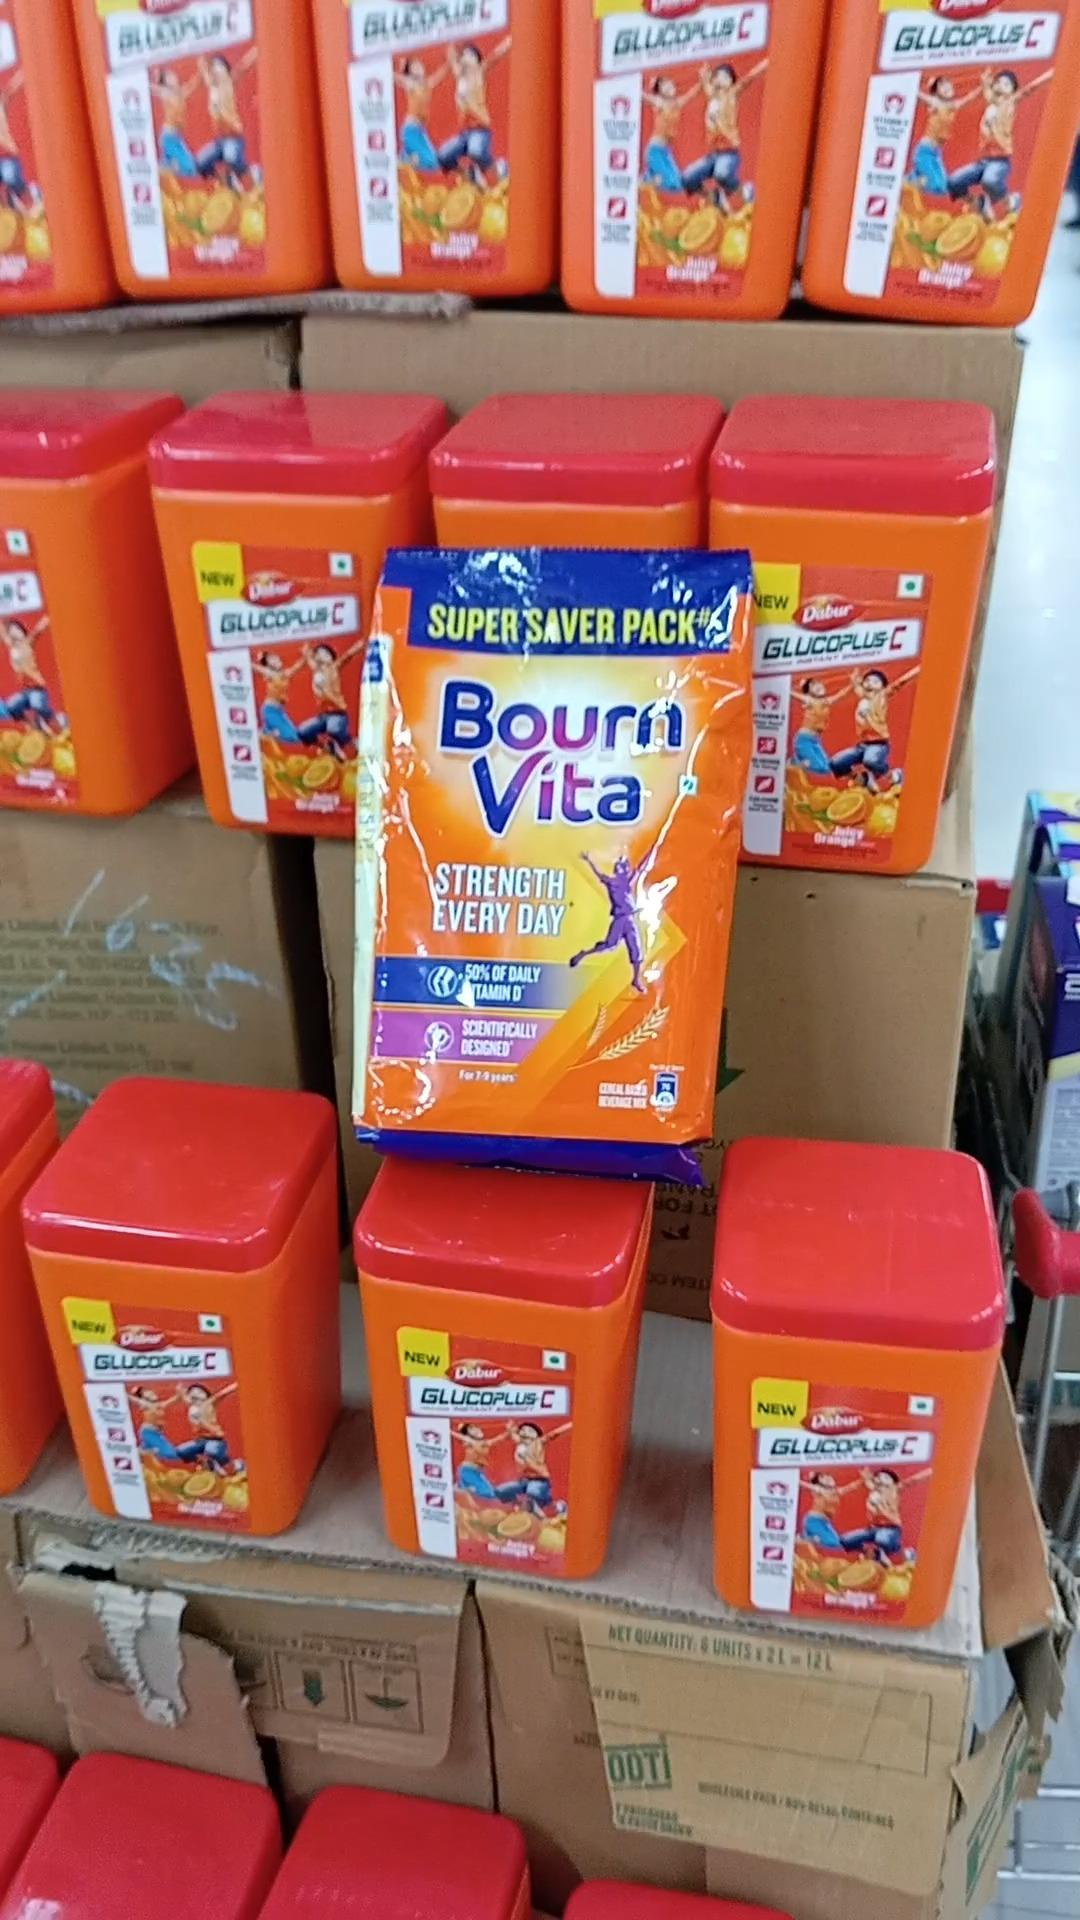BOURN_VITA_1_KG_POUCH: (340, 533, 729, 1176)
